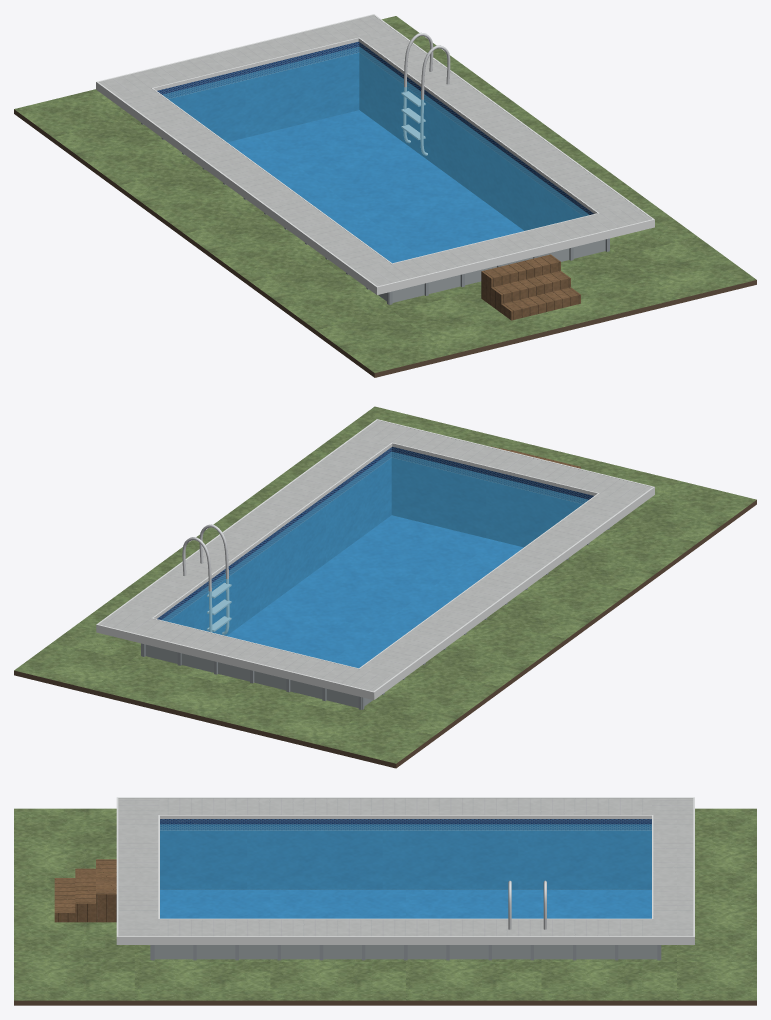
Rendered from kayak-pool-12x24-gray-walk-rec-nofence.05c7a85eb9.glb.
The picture shows the model from 3 angles, top to bottom: view 1: azimuth 30°, elevation 25°; view 2: azimuth 150°, elevation 25°; view 3: azimuth 270°, elevation 25°; orthographic projection. The views are drawn at different scales.
Parts seen in each view (by area): view 1: ground, water, deck, liner_wall, liner_floor, fascia, steps, soil, wall, steel; view 2: ground, water, deck, liner_wall, liner_floor, fascia, soil, wall, steel; view 3: ground, water, liner_wall, deck, liner_floor, fascia, wall, soil, steps, upright, steel.
Boxes of the visible parts, x1,y1,x2,y2 form: ground: (14,16,756,372); water: (162,46,588,263); deck: (99,15,651,286); liner_wall: (157,41,593,230); liner_floor: (227,110,523,263); fascia: (96,14,654,294); steps: (481,254,580,320); soil: (14,109,756,377); wall: (378,239,605,302); steel: (401,32,450,155); ground: (14,406,756,763); water: (162,452,588,668); deck: (99,420,651,695); liner_wall: (157,446,593,635); liner_floor: (227,515,523,668); fascia: (96,419,654,699); soil: (14,500,756,768); wall: (145,644,372,707); steel: (182,524,231,634); ground: (14,808,756,1000); water: (160,824,651,918); liner_wall: (160,819,651,889); deck: (118,798,693,936); liner_floor: (160,890,651,918); fascia: (116,797,694,944); wall: (154,945,657,959); soil: (14,1000,756,1005); steps: (54,859,116,922); upright: (150,945,661,960); steel: (508,880,546,929).
Bounding box in the file's own units: 6.71 × 1.9 × 10.97.
12 materials, 5 textured.
